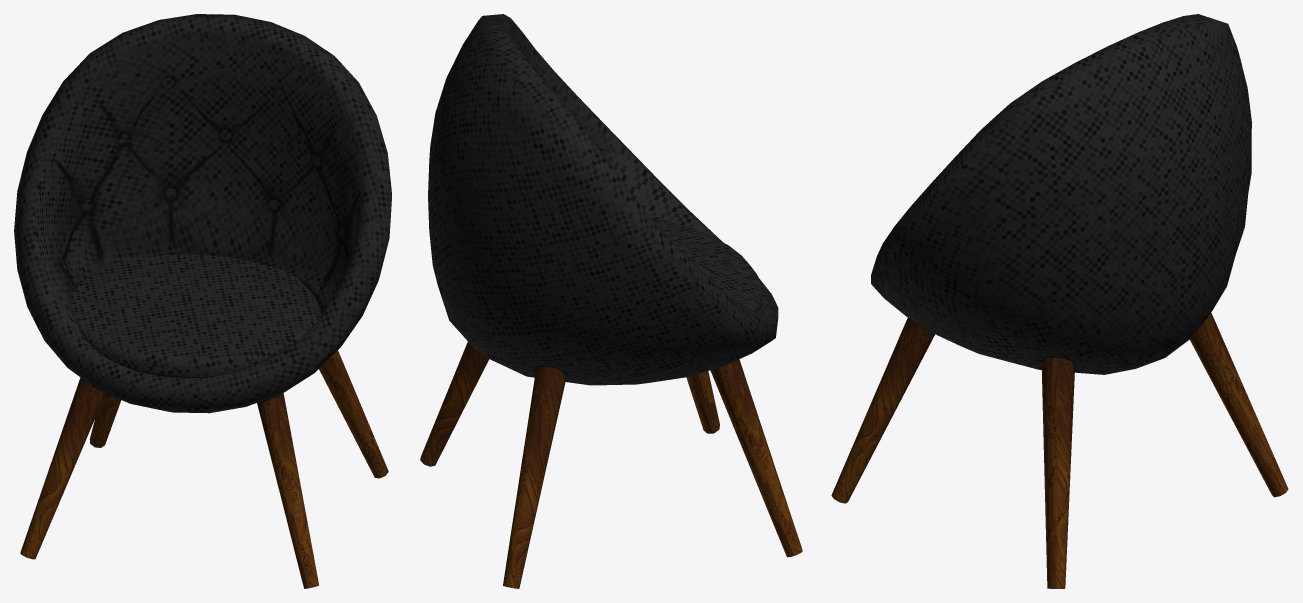
Rendered from armchair2.glb.
3 renders of one model, left to right at view 1: azimuth 30°, elevation 25°; view 2: azimuth 150°, elevation 25°; view 3: azimuth 270°, elevation 25°, orthographic. The views are drawn at different scales.
Parts seen in each view (by area): view 1: chairlegs_low.001, chairlegs_low.001_chair1_0.001; view 2: chairlegs_low.001, chairlegs_low.001_chair1_0.001; view 3: chairlegs_low.001, chairlegs_low.001_chair1_0.001.
Boxes of the visible parts, x1,y1,x2,y2 form: chairlegs_low.001: (14, 14, 391, 413); chairlegs_low.001_chair1_0.001: (20, 350, 388, 588); chairlegs_low.001: (428, 14, 778, 385); chairlegs_low.001_chair1_0.001: (420, 342, 802, 588); chairlegs_low.001: (871, 14, 1251, 374); chairlegs_low.001_chair1_0.001: (831, 313, 1288, 588).
Bounding box in the file's own units: 0.9428 × 1.13 × 0.9424.
1 material, 1 textured.
